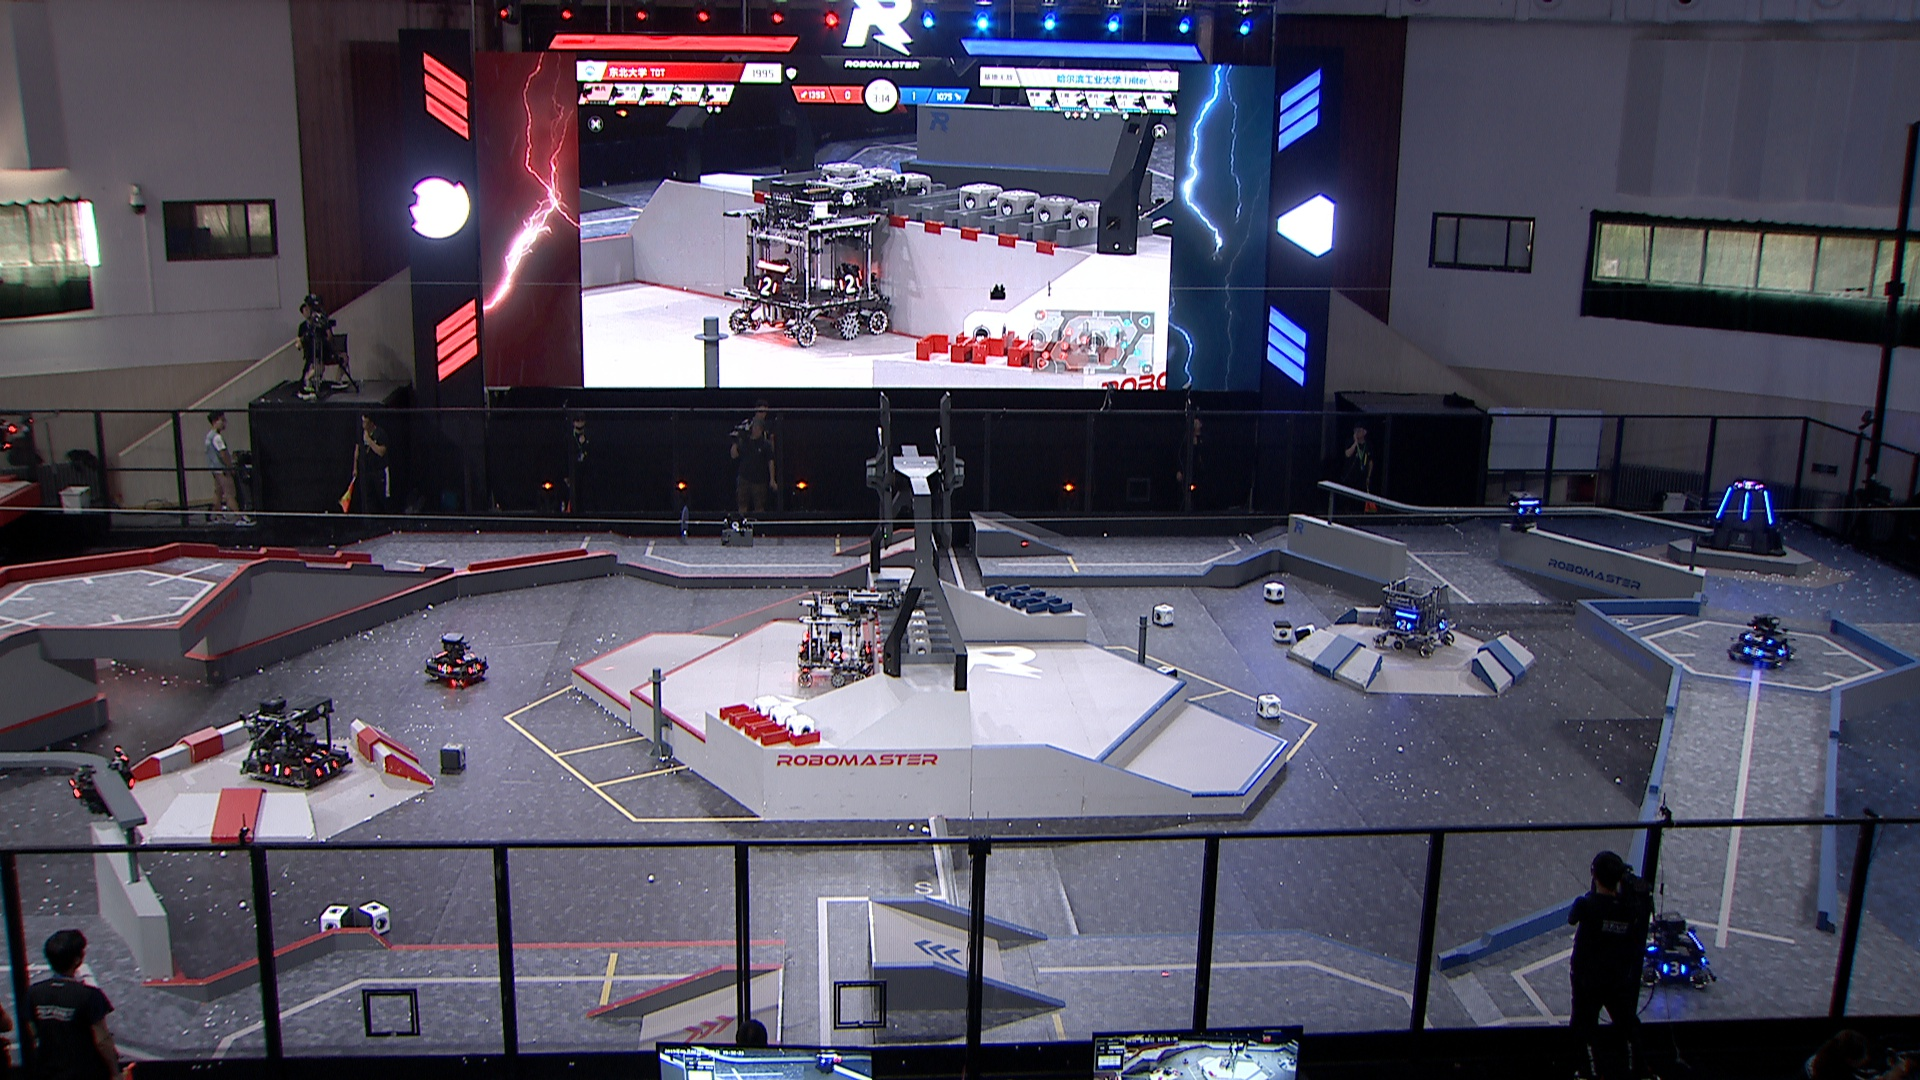armor: (1658, 955, 1689, 978), (1716, 483, 1735, 518), (261, 764, 295, 782), (1638, 931, 1662, 955), (1741, 626, 1771, 645), (301, 745, 328, 765), (313, 757, 338, 778), (1738, 491, 1753, 526), (1760, 489, 1774, 527), (65, 778, 84, 802), (825, 647, 849, 665), (1741, 642, 1764, 659), (1516, 505, 1542, 520), (454, 650, 477, 665), (1775, 642, 1792, 661), (1433, 616, 1452, 633), (434, 661, 454, 675), (467, 661, 484, 676), (1395, 617, 1414, 632)
base: (1695, 473, 1787, 556)
car: (231, 692, 352, 793), (799, 588, 880, 688), (1371, 570, 1457, 659), (1626, 909, 1717, 992), (1722, 612, 1797, 670), (423, 632, 493, 688)
ignore: (724, 164, 894, 345), (1735, 477, 1768, 491)
watcher: (65, 742, 138, 822), (1505, 488, 1547, 535)
